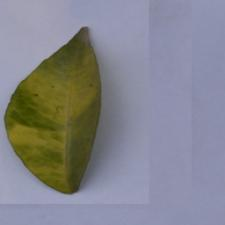Greening: (21, 29, 131, 178)
